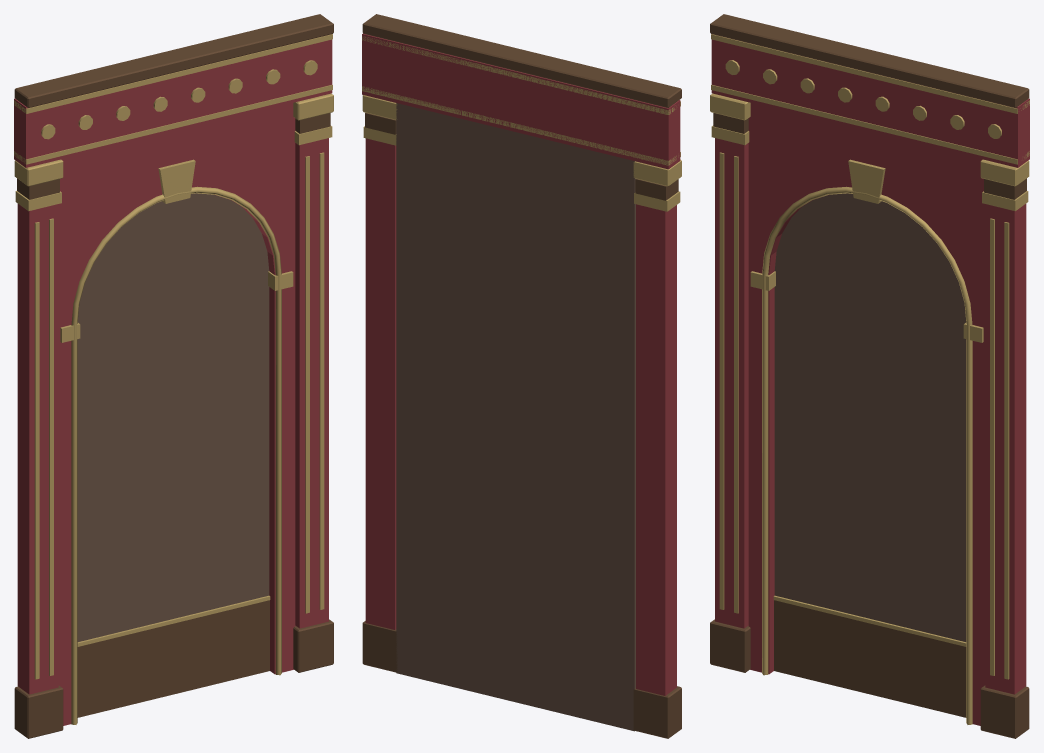
The model's file is wall_arch_panel.glb.
3 views of the same model, side by side, from view 1: azimuth 30°, elevation 25°; view 2: azimuth 150°, elevation 25°; view 3: azimuth 330°, elevation 25° (orthographic).
Visible parts, largest first — view 1: wall_theater__wall_arch_panel__solid, ceiling_theater__wall_arch_panel__solid, brass__wall_arch_panel__solid, dark_wood__wall_arch_panel__solid; view 2: ceiling_theater__wall_arch_panel__solid, wall_theater__wall_arch_panel__solid, dark_wood__wall_arch_panel__solid, brass__wall_arch_panel__solid; view 3: wall_theater__wall_arch_panel__solid, ceiling_theater__wall_arch_panel__solid, brass__wall_arch_panel__solid, dark_wood__wall_arch_panel__solid.
Boxes of the visible parts, bbox=[...] form: wall_theater__wall_arch_panel__solid: bbox=[14, 39, 332, 725]; ceiling_theater__wall_arch_panel__solid: bbox=[77, 193, 269, 641]; brass__wall_arch_panel__solid: bbox=[14, 34, 333, 724]; dark_wood__wall_arch_panel__solid: bbox=[14, 14, 333, 738]; ceiling_theater__wall_arch_panel__solid: bbox=[396, 103, 635, 731]; wall_theater__wall_arch_panel__solid: bbox=[362, 33, 680, 695]; dark_wood__wall_arch_panel__solid: bbox=[362, 14, 681, 738]; brass__wall_arch_panel__solid: bbox=[362, 36, 681, 211]; wall_theater__wall_arch_panel__solid: bbox=[711, 39, 1029, 725]; ceiling_theater__wall_arch_panel__solid: bbox=[774, 193, 966, 641]; brass__wall_arch_panel__solid: bbox=[710, 34, 1029, 724]; dark_wood__wall_arch_panel__solid: bbox=[710, 14, 1029, 738].
Bounding box in the file's own units: 4.5 × 9 × 0.35.
